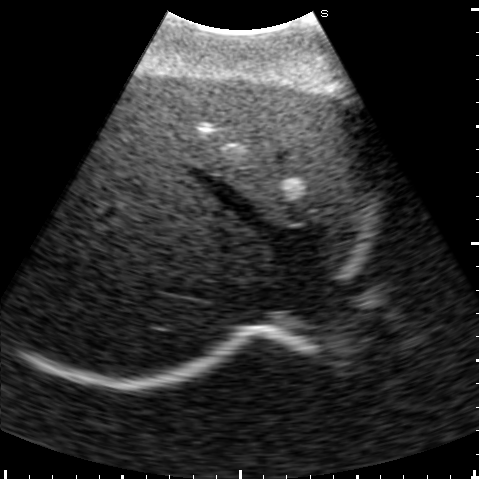S2: (321, 160, 368, 262)
S4: (122, 76, 343, 227)
S7: (20, 229, 236, 376)
S8: (88, 144, 275, 283)
Tumor: (281, 178, 304, 199), (220, 143, 246, 158), (195, 121, 211, 134)
